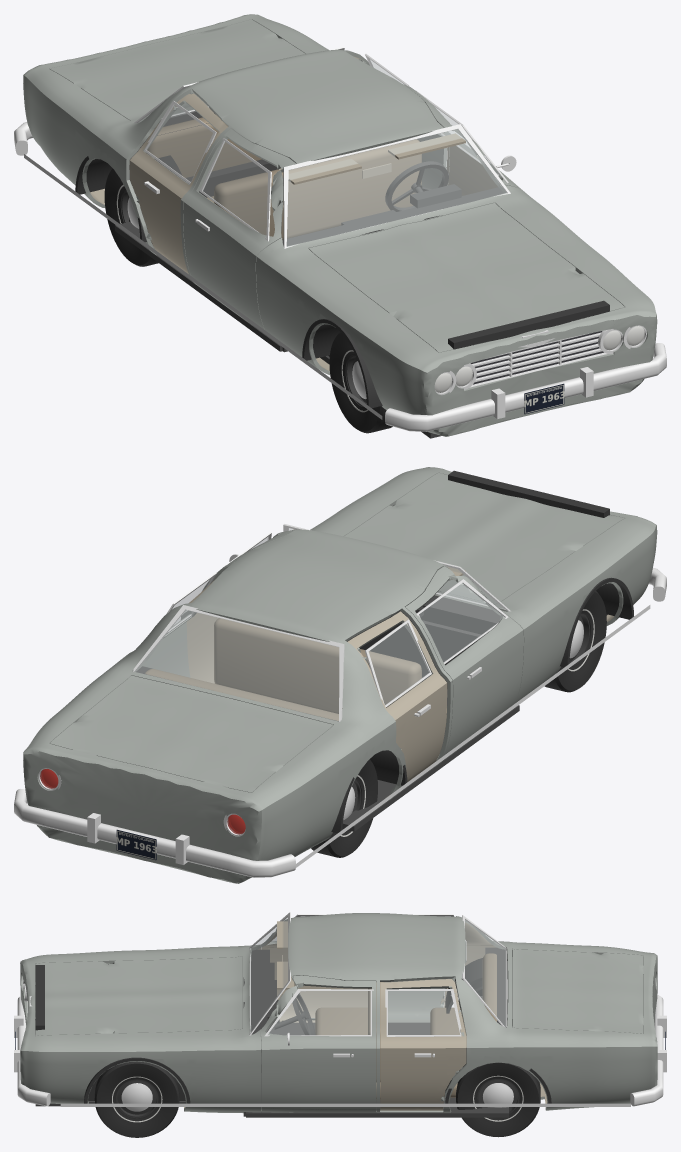
File: SM_V01_Sedan_Base_Neutral.glb
The picture shows the model from 3 angles, top to bottom: view 1: azimuth 30°, elevation 25°; view 2: azimuth 150°, elevation 25°; view 3: azimuth 270°, elevation 25°; orthographic projection. The views are drawn at different scales.
Parts seen in each view (by area): view 1: BODY, HOOD, GLASS_WINDSHIELD, TRUNK, INT_SEAT_FRONT, DOOR_FR, DOOR_RR, BUMPER_FRONT, GLASS_DOOR_FR, INT_SEAT_REAR, WHEELHOUSES, WHEEL_FR (+19 smaller); view 2: BODY, TRUNK, HOOD, GLASS_REAR, INT_SEAT_FRONT, DOOR_FR, DOOR_RR, BUMPER_REAR, GLASS_DOOR_FR, INT_FLOOR, INT_DASH, GLASS_DOOR_RR (+12 smaller); view 3: BODY, HOOD, TRUNK, DOOR_FL, DOOR_RL, WHEEL_FL, WHEEL_RL, INT_FLOOR, GLASS_DOOR_FL, GLASS_DOOR_RL, GLASS_REAR, GLASS_WINDSHIELD (+16 smaller).
Part boxes in pixels (x1,y1,x2,y2): BODY: [23, 14, 657, 436]; HOOD: [308, 202, 624, 352]; GLASS_WINDSHIELD: [287, 129, 506, 246]; TRUNK: [49, 19, 305, 120]; INT_SEAT_FRONT: [214, 139, 421, 239]; DOOR_FR: [183, 128, 295, 329]; DOOR_RR: [129, 89, 227, 273]; BUMPER_FRONT: [385, 343, 666, 431]; GLASS_DOOR_FR: [203, 142, 267, 235]; INT_SEAT_REAR: [142, 114, 261, 202]; WHEELHOUSES: [75, 146, 382, 408]; WHEEL_FR: [329, 332, 392, 433]; BODY: [23, 467, 657, 883]; TRUNK: [49, 675, 333, 792]; HOOD: [344, 473, 624, 604]; GLASS_REAR: [135, 610, 338, 721]; INT_SEAT_FRONT: [214, 618, 446, 728]; DOOR_FR: [405, 566, 523, 762]; DOOR_RR: [347, 611, 447, 794]; BUMPER_REAR: [14, 789, 295, 877]; GLASS_DOOR_FR: [419, 583, 504, 661]; INT_FLOOR: [136, 629, 519, 831]; INT_DASH: [369, 595, 500, 651]; GLASS_DOOR_RR: [369, 623, 429, 704]; BODY: [20, 913, 657, 1113]; HOOD: [35, 956, 242, 1035]; TRUNK: [512, 949, 643, 1033]; DOOR_FL: [260, 975, 375, 1112]; DOOR_RL: [380, 977, 466, 1112]; WHEEL_FL: [94, 1061, 179, 1137]; WHEEL_RL: [456, 1062, 540, 1137]; INT_FLOOR: [243, 947, 511, 1117]; GLASS_DOOR_FL: [268, 991, 370, 1034]; GLASS_DOOR_RL: [388, 991, 459, 1034]; GLASS_REAR: [465, 920, 505, 1026]; GLASS_WINDSHIELD: [250, 917, 287, 1032].
Size of what is drawn, in the model's own units: 2.18 by 1.43 by 5.46.
15 materials, 1 textured.
